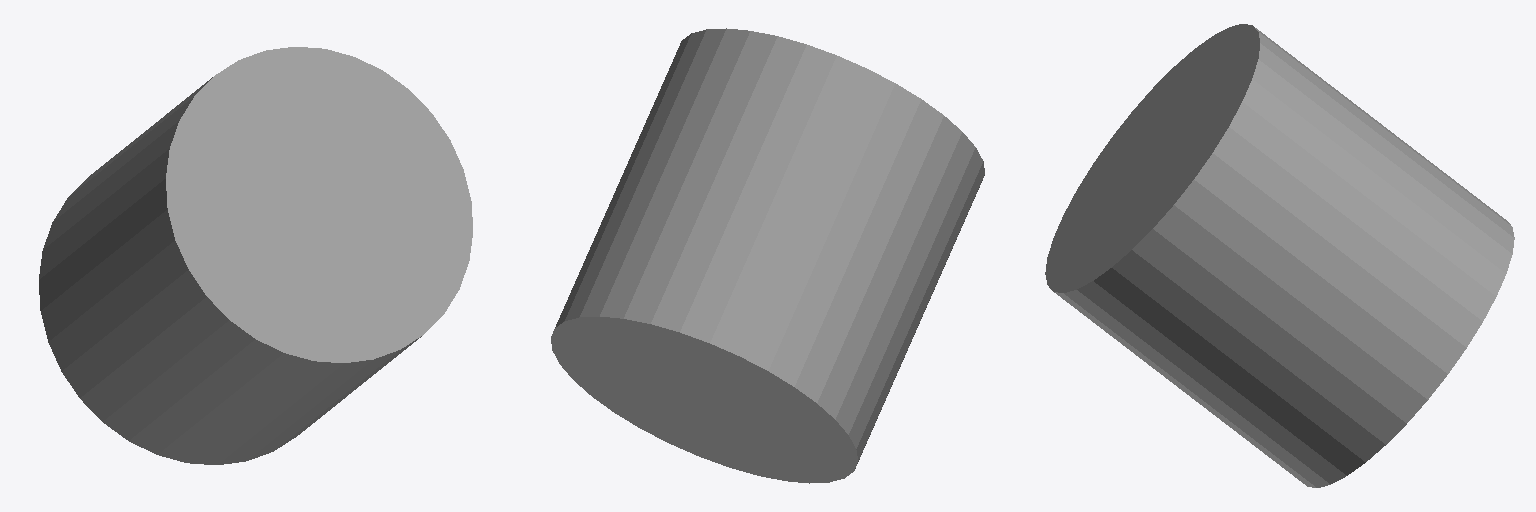
The model's file is cilyndre_tex.obj.
The picture shows the model from 3 angles: view 1: azimuth 30°, elevation 25°; view 2: azimuth 150°, elevation 25°; view 3: azimuth 270°, elevation 25°; orthographic projection.
Visible parts, largest first — view 1: Cylinder; view 2: Cylinder; view 3: Cylinder.
Part boxes in pixels (bbox=[...]): Cylinder: bbox=[39, 47, 472, 464]; Cylinder: bbox=[551, 28, 984, 483]; Cylinder: bbox=[1045, 24, 1514, 487].
Size of the model in its own units: 2 by 2.82 by 2.82.